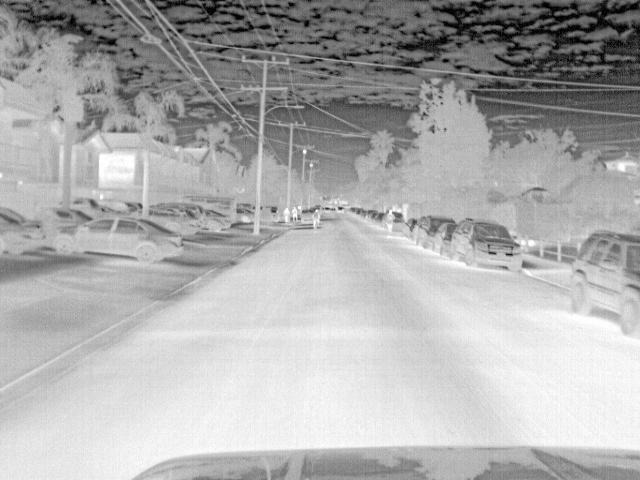car: (564, 229, 640, 336), (54, 219, 187, 262), (448, 218, 526, 273), (3, 211, 48, 258), (184, 194, 240, 225), (146, 214, 197, 238), (412, 218, 448, 248), (432, 219, 456, 253), (204, 210, 237, 231)
person: (384, 206, 398, 232), (309, 209, 323, 228), (290, 204, 303, 223), (283, 205, 291, 224)
